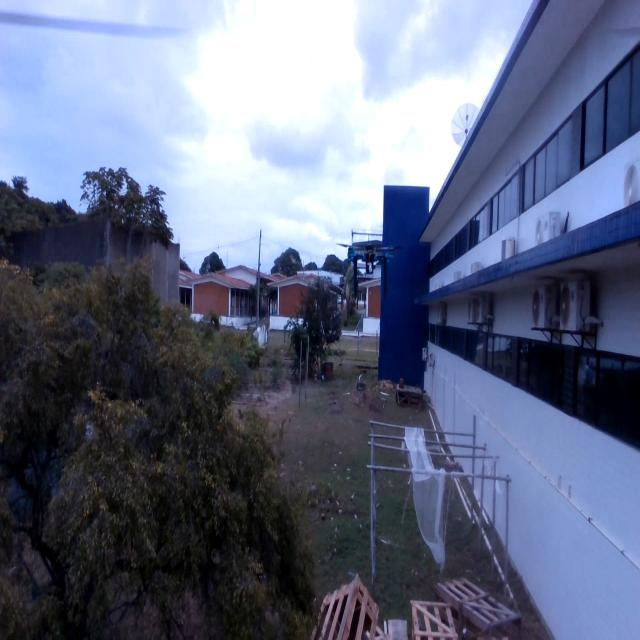-uav-: (340, 227, 391, 293)
